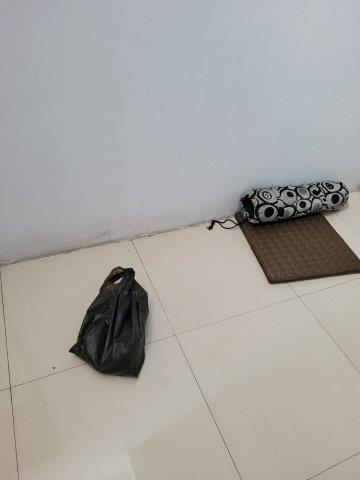plastik: (68, 266, 148, 380)
